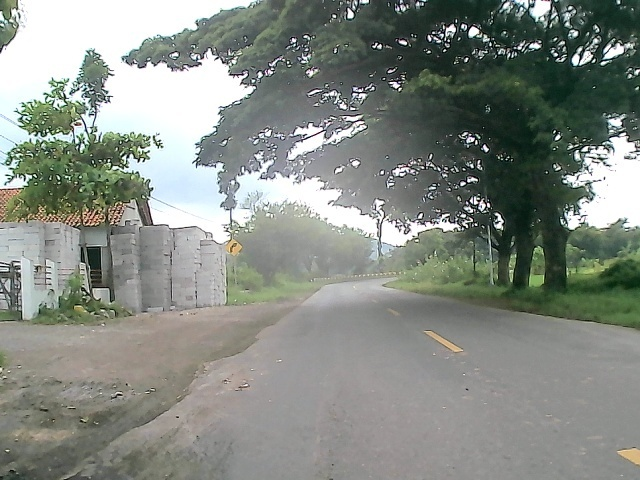Tikungan ke kanan: (224, 237, 244, 259)
